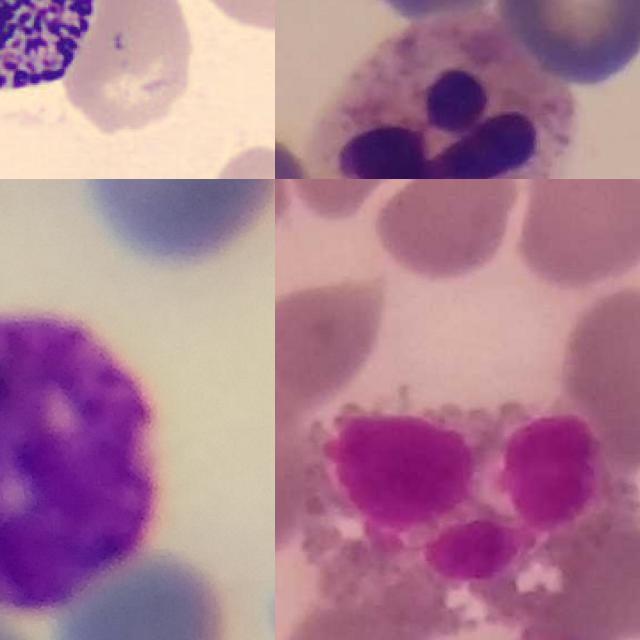Basophil: (0, 307, 157, 615), (0, 0, 110, 127)
Eosinophil: (303, 393, 627, 632)
Neutrophil: (313, 11, 573, 179)
RBC: (74, 0, 197, 90), (188, 136, 275, 179), (185, 0, 275, 35)
